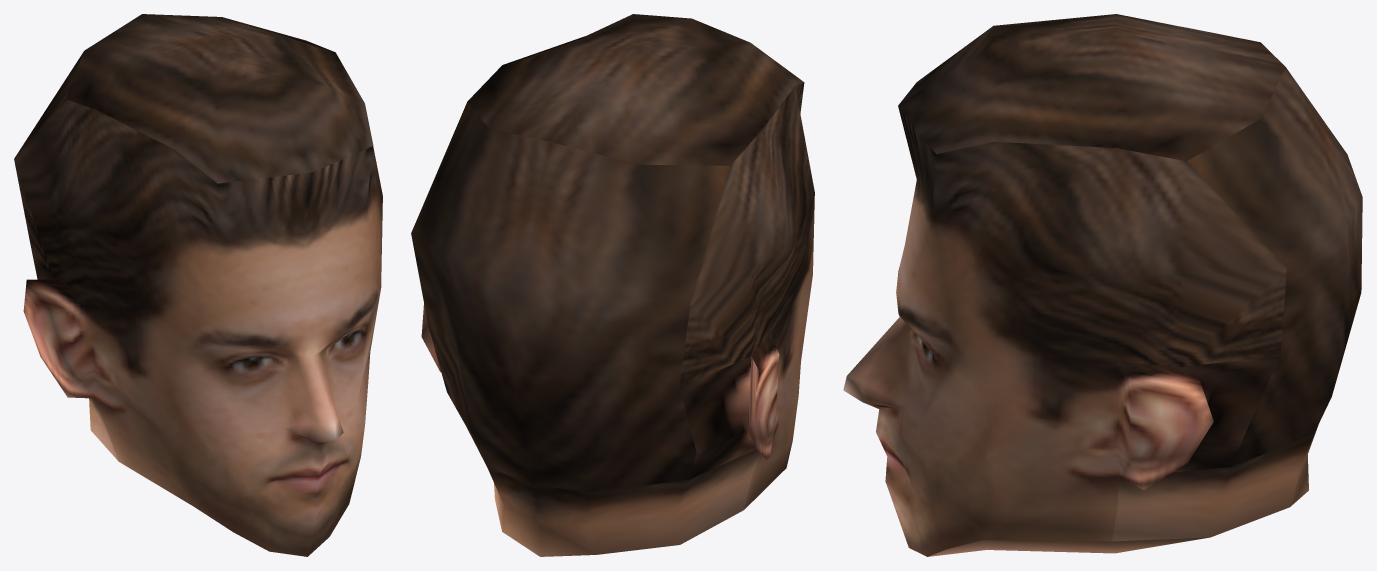
File: m_head1.fbx
3 views of the same model, side by side, from view 1: azimuth 30°, elevation 25°; view 2: azimuth 150°, elevation 25°; view 3: azimuth 270°, elevation 25° (orthographic). The views are drawn at different scales.
Visible parts, largest first — view 1: m_head1; view 2: m_head1; view 3: m_head1.
Boxes of the visible parts, left/top/right/bottom form: m_head1: left=14, top=14, right=382, bottom=556; m_head1: left=411, top=14, right=814, bottom=556; m_head1: left=843, top=14, right=1362, bottom=556.
Bounding box in the file's own units: 18.73 × 26.4 × 24.14.
1 material, 1 textured.
